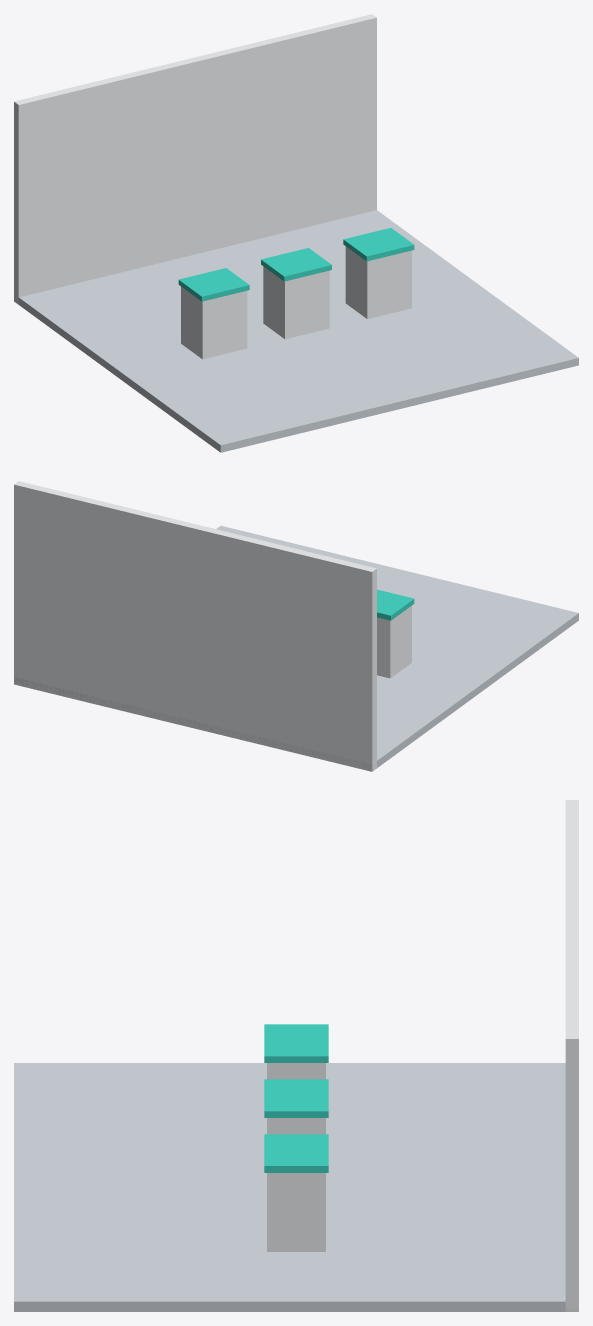
The picture shows the model from 3 angles, top to bottom: view 1: azimuth 30°, elevation 25°; view 2: azimuth 150°, elevation 25°; view 3: azimuth 270°, elevation 25°; orthographic projection. The views are drawn at different scales.
Visible parts, largest first — view 1: Exhibition Booth Concept; view 2: Exhibition Booth Concept; view 3: Exhibition Booth Concept.
Part boxes in pixels (x1,y1,x2,y2): Exhibition Booth Concept: (14, 14, 578, 452); Exhibition Booth Concept: (14, 481, 578, 771); Exhibition Booth Concept: (14, 800, 578, 1311).
Size of the model in its own units: 6 by 3.2 by 6.
